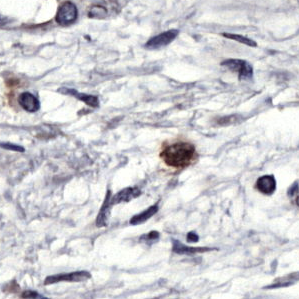Lymphocyte: (158, 138, 202, 168)
